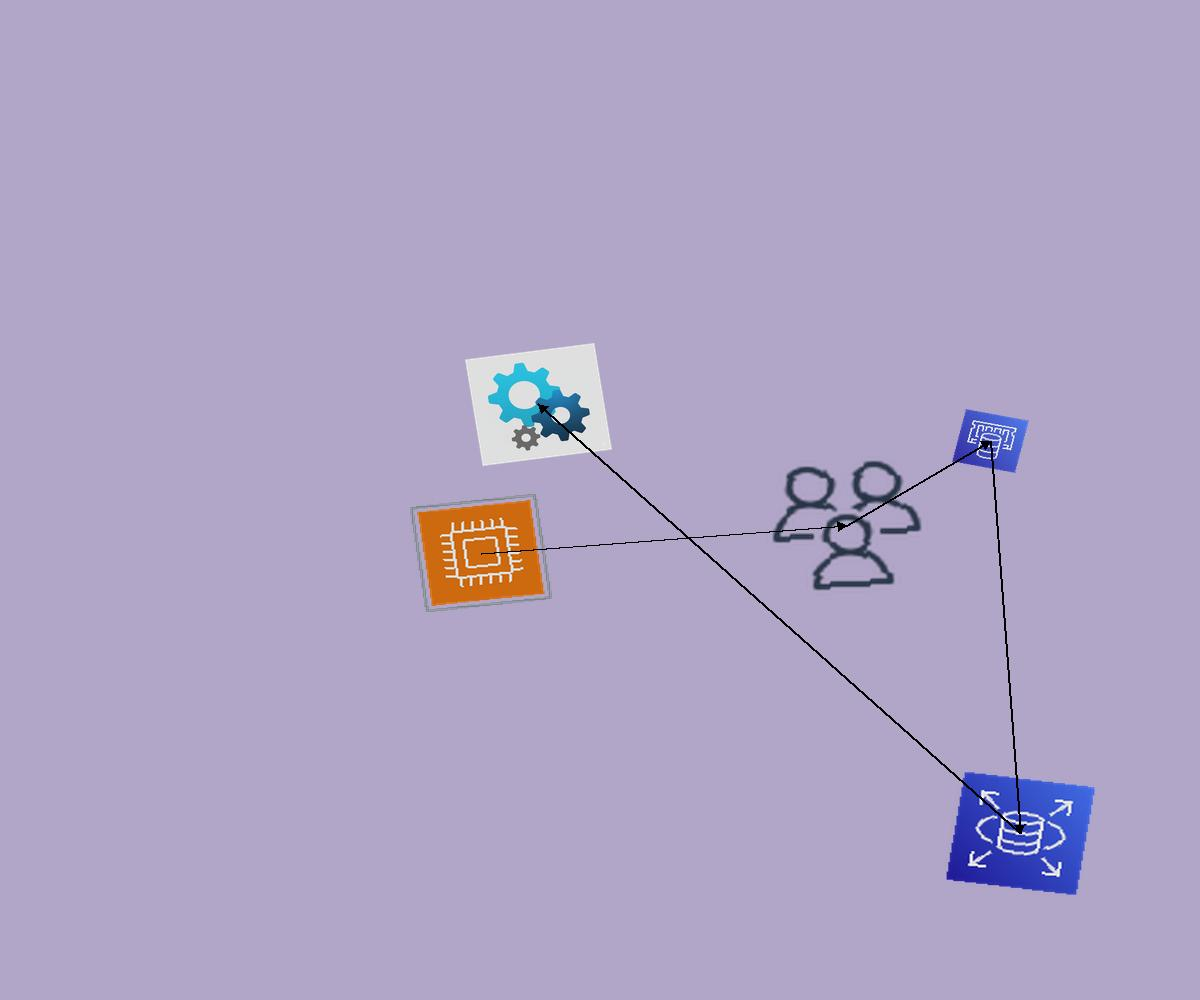AWS-Category_Compute: (409, 493, 553, 613)
AWS-ElastiCache: (952, 409, 1029, 473)
AWS-RDS: (945, 771, 1096, 896)
AWS-Res_Users: (760, 453, 934, 598)
Azure_api: (465, 343, 612, 466)
